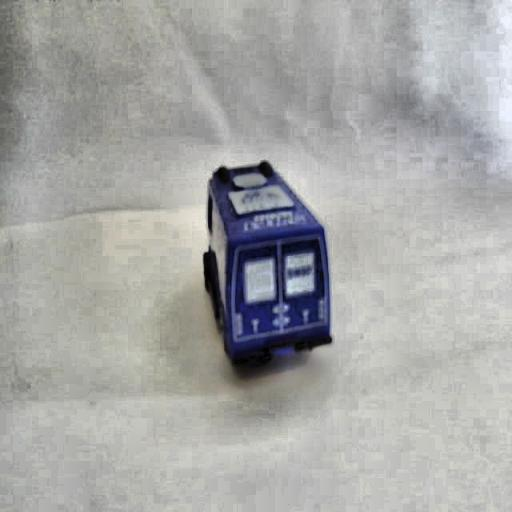police car: (201, 153, 336, 374)
